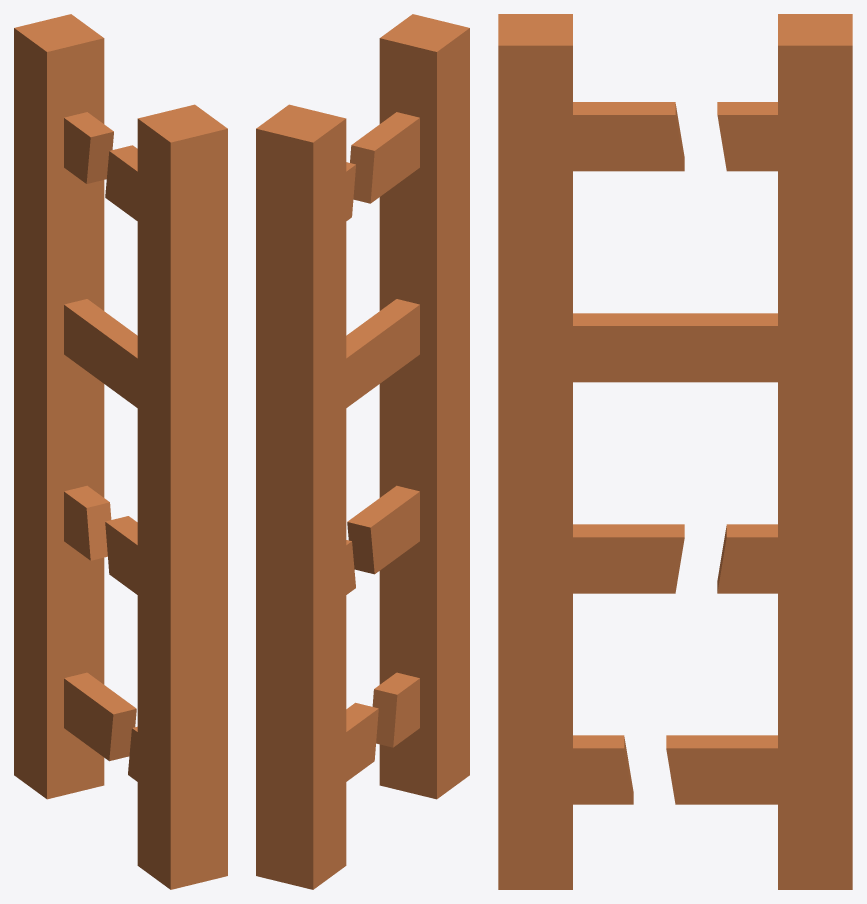
Rendered from ladderBroken.fbx.
3 views of the same model, side by side, from view 1: azimuth 30°, elevation 25°; view 2: azimuth 150°, elevation 25°; view 3: azimuth 270°, elevation 25° (orthographic). The views are drawn at different scales.
Visible parts, largest first — view 1: ladderBroken; view 2: ladderBroken; view 3: ladderBroken.
Boxes of the visible parts, box(x1,y1,x2,y2) form: ladderBroken: box(14, 14, 227, 889); ladderBroken: box(256, 14, 469, 889); ladderBroken: box(498, 14, 852, 889).
Bounding box in the file's own units: 0.8 × 10 × 3.8.
